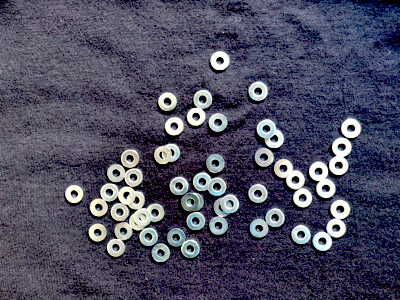circle: (329, 200, 354, 223), (326, 220, 350, 242), (328, 155, 352, 177), (106, 239, 128, 262), (310, 232, 333, 254), (289, 225, 311, 247), (341, 118, 362, 141), (331, 138, 355, 158), (152, 242, 173, 264), (315, 179, 336, 201), (308, 162, 329, 183), (164, 116, 185, 137), (87, 223, 109, 243), (293, 189, 315, 209), (255, 149, 277, 169), (210, 113, 230, 135), (192, 90, 214, 110), (249, 219, 270, 239), (185, 193, 205, 214), (265, 129, 286, 149), (206, 152, 225, 174), (255, 120, 277, 139), (180, 239, 200, 259), (167, 229, 187, 249), (121, 149, 141, 169), (249, 82, 269, 102), (186, 108, 206, 128), (210, 52, 230, 72), (113, 222, 134, 241), (208, 217, 229, 236), (274, 159, 293, 180), (107, 163, 126, 184), (186, 212, 206, 231), (266, 208, 285, 228), (286, 171, 306, 190), (221, 196, 241, 215), (89, 199, 109, 218), (100, 184, 120, 203), (66, 186, 85, 206), (163, 142, 181, 163), (157, 94, 178, 112), (129, 213, 148, 232), (248, 185, 267, 204), (208, 179, 227, 198), (180, 193, 199, 212), (170, 178, 189, 197), (193, 173, 212, 192), (214, 199, 234, 217), (128, 191, 146, 211), (111, 203, 129, 223), (140, 229, 158, 248), (147, 204, 165, 223), (154, 147, 172, 165), (125, 170, 144, 187), (135, 209, 152, 227), (119, 187, 136, 205)
